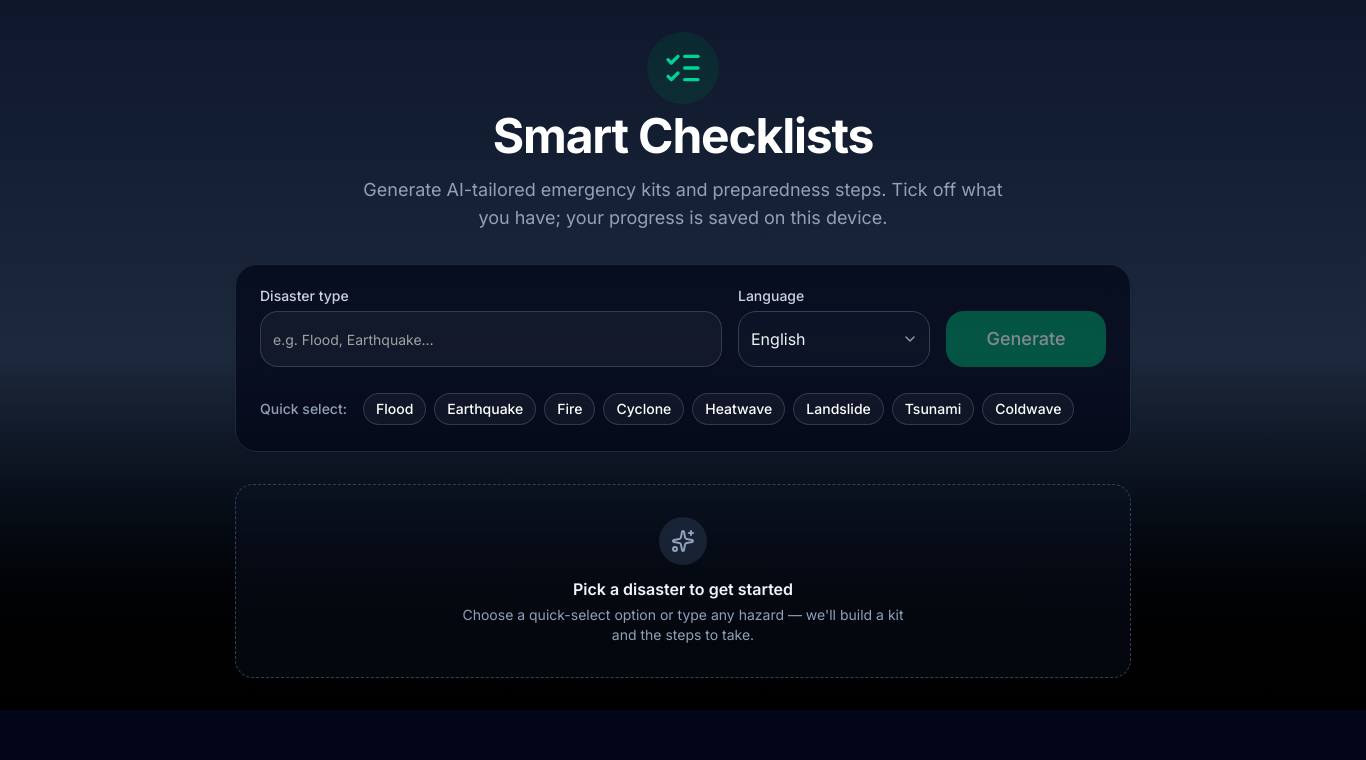
Scenario: ChecklistView › sends the typed disaster and the chosen language
Type "  heat   wave " into the field labelled "Disaster type". click: (491, 339)
box: [260,311,722,367]
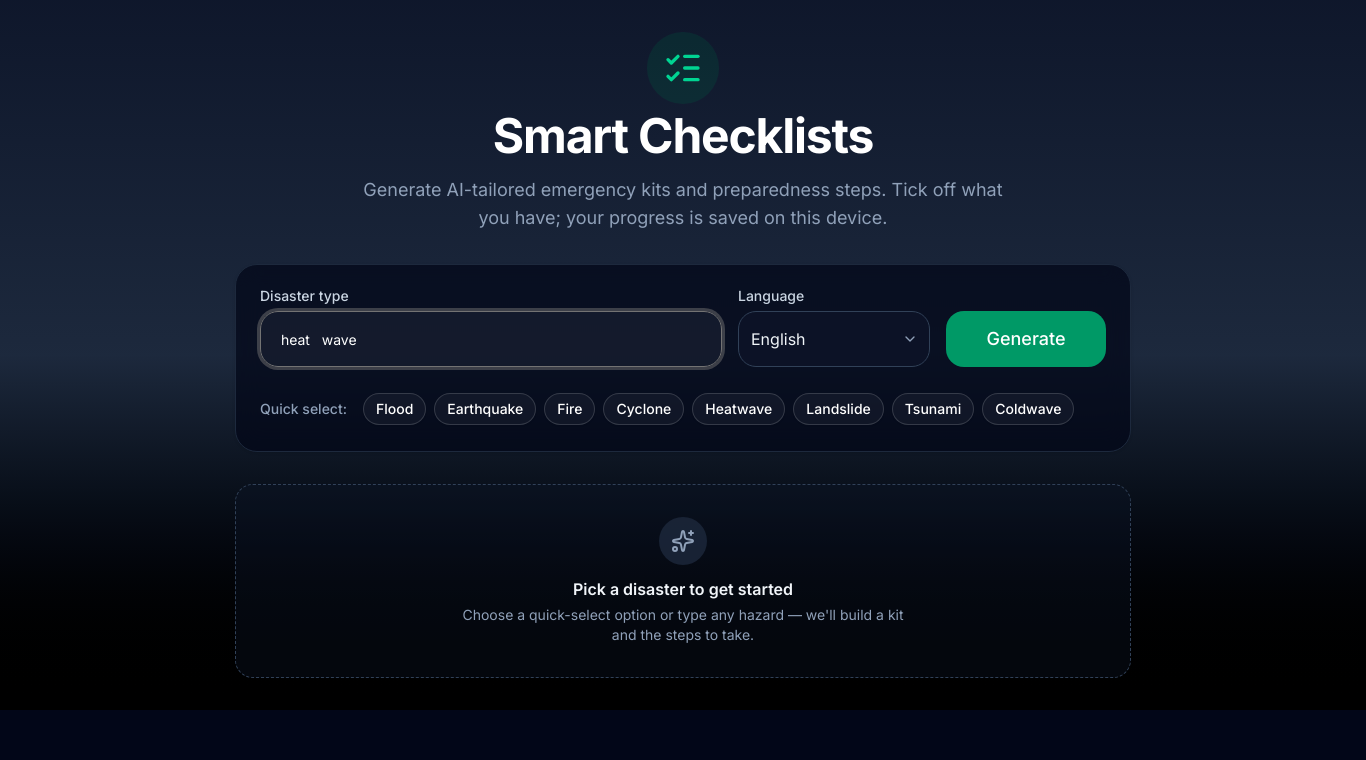
Select "हिन्दी (Hindi)" in the dropdown labelled "Language". click: (834, 339)
box: [738,311,930,367]
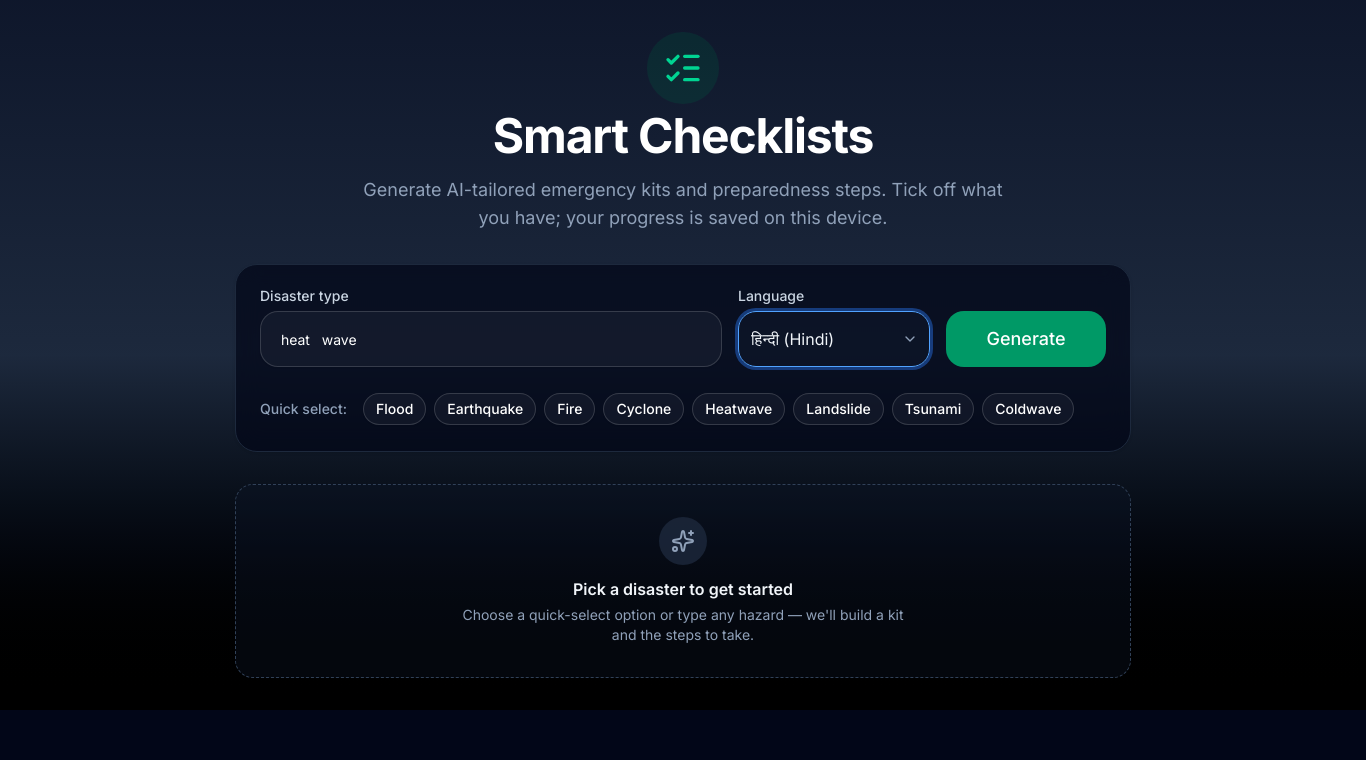
Click the button "Generate". click: (1026, 339)
box: [946,311,1106,367]
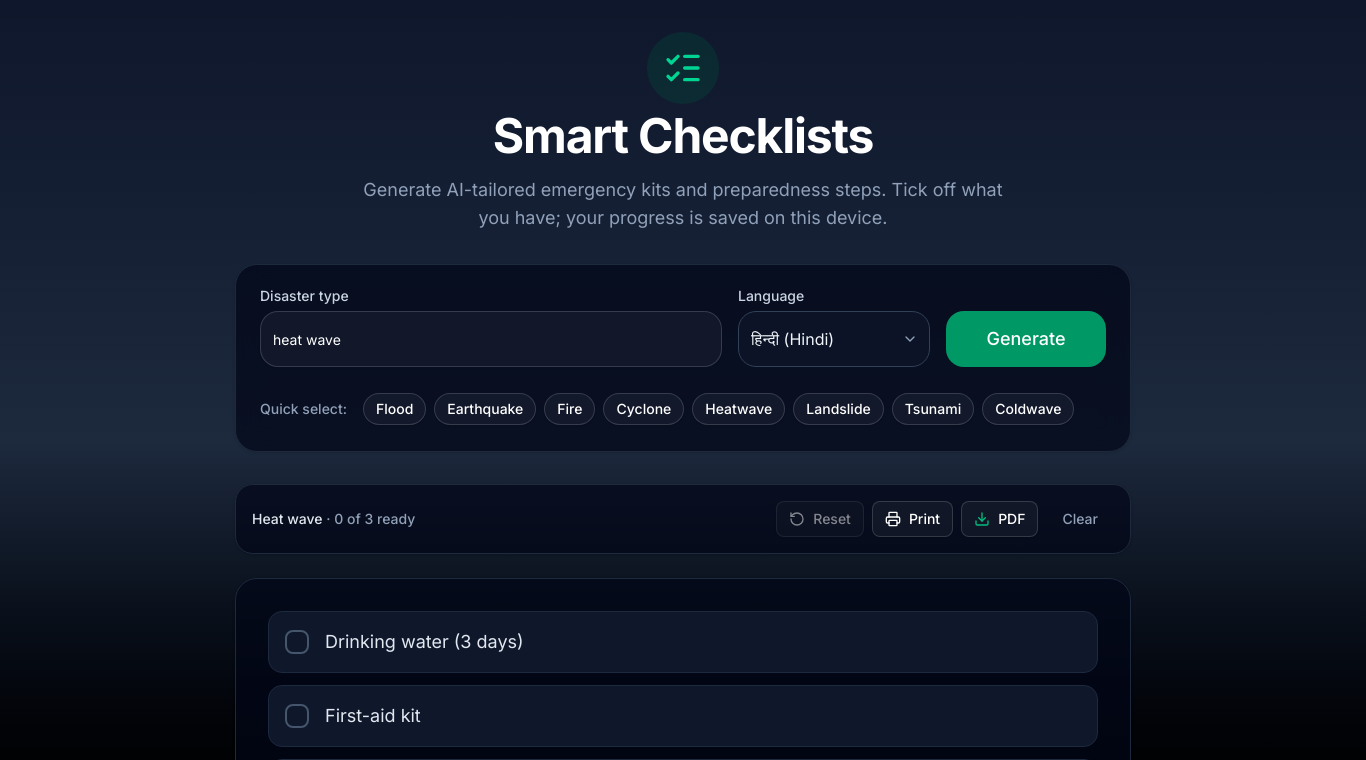
Check: the checkbox labelled "First-aid kit" is shown, box [268,685,1098,747]
